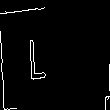L_N: (46, 28, 64, 82)
